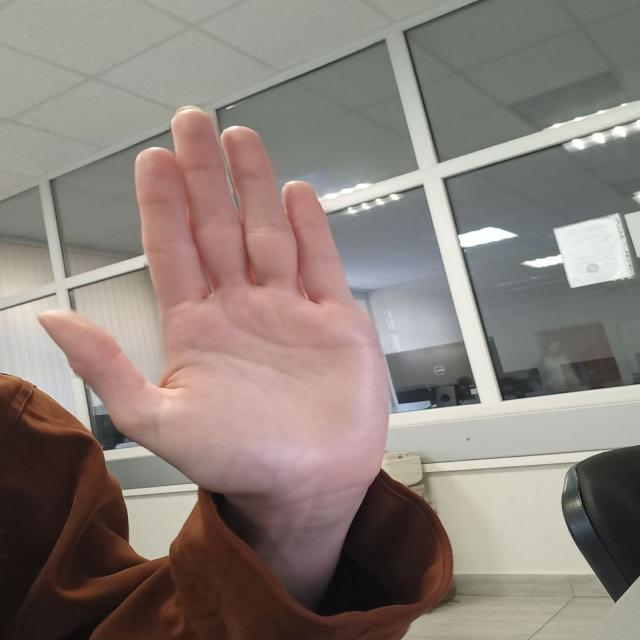v: (49, 98, 409, 495)
